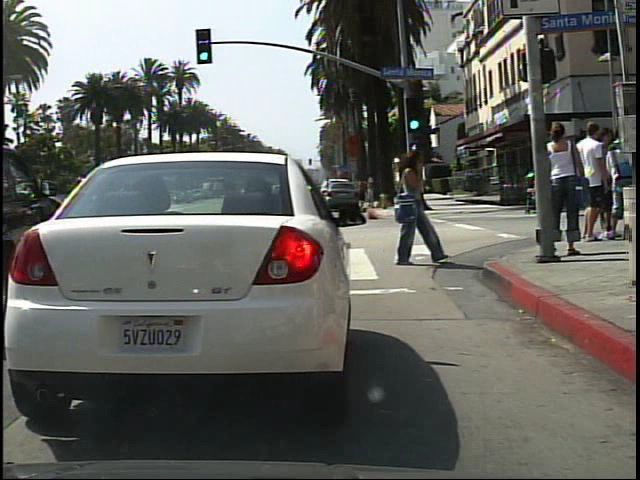person: (385, 143, 442, 272), (543, 121, 590, 262)
